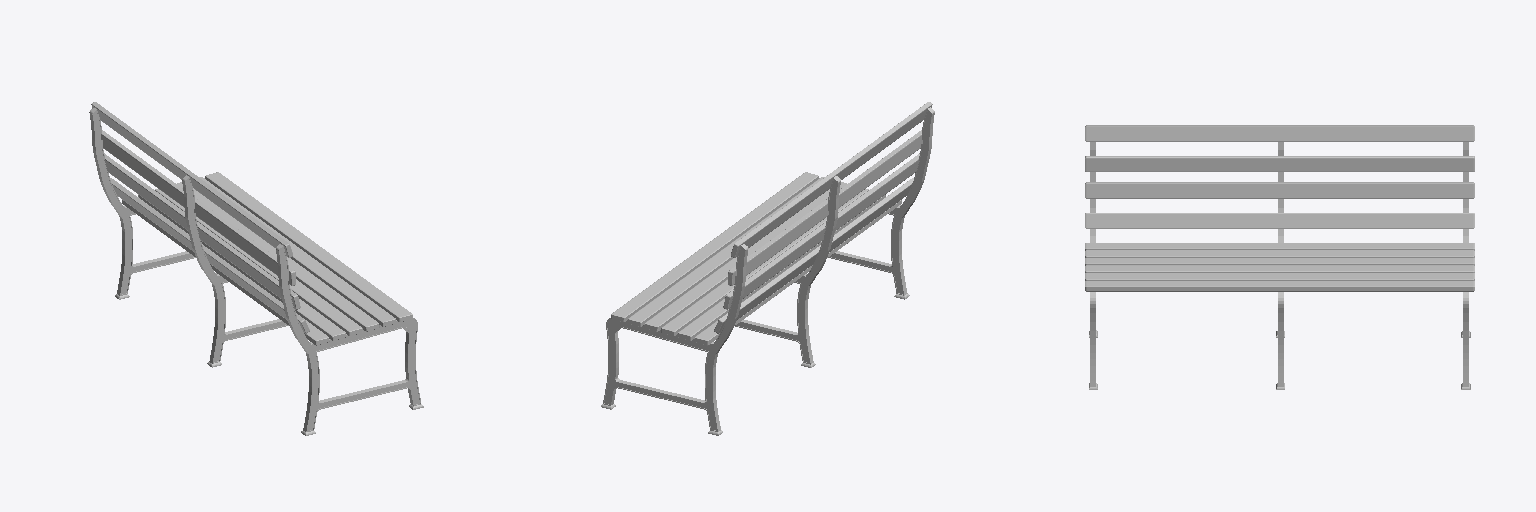
Rendered from parkBench.obj.
3 views of the same model, side by side, from view 1: azimuth 30°, elevation 25°; view 2: azimuth 150°, elevation 25°; view 3: azimuth 270°, elevation 25° (orthographic).
Parts seen in each view (by area): view 1: Cube.001_Cube.003; view 2: Cube.001_Cube.003; view 3: Cube.001_Cube.003.
Boxes of the visible parts, box(x1,y1,x2,y2) form: Cube.001_Cube.003: box(89, 102, 423, 435); Cube.001_Cube.003: box(601, 102, 934, 435); Cube.001_Cube.003: box(1085, 125, 1474, 389).
Size of the model in its own units: 0.7181 by 0.9431 by 1.68.